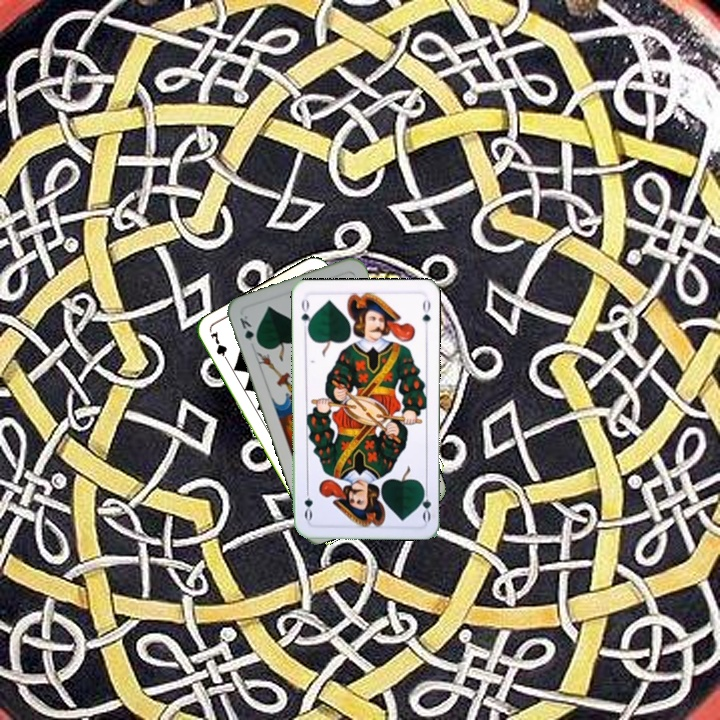G7: (207, 328, 232, 366)
GK: (235, 311, 262, 348)
GO: (297, 294, 314, 335), (416, 483, 433, 523)
